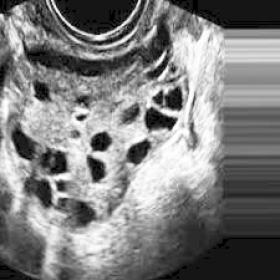-: (145, 107, 177, 134), (128, 142, 150, 163), (166, 90, 180, 113), (119, 107, 140, 122), (79, 96, 96, 112), (154, 91, 166, 104), (170, 65, 181, 76)
PCOS: (16, 128, 38, 160), (90, 132, 116, 150), (31, 82, 54, 101), (87, 156, 105, 180), (72, 200, 93, 220), (38, 186, 52, 209), (54, 151, 66, 176), (41, 150, 53, 166), (28, 179, 38, 194), (56, 178, 68, 190), (59, 195, 68, 211), (71, 128, 84, 139), (76, 113, 86, 121)
